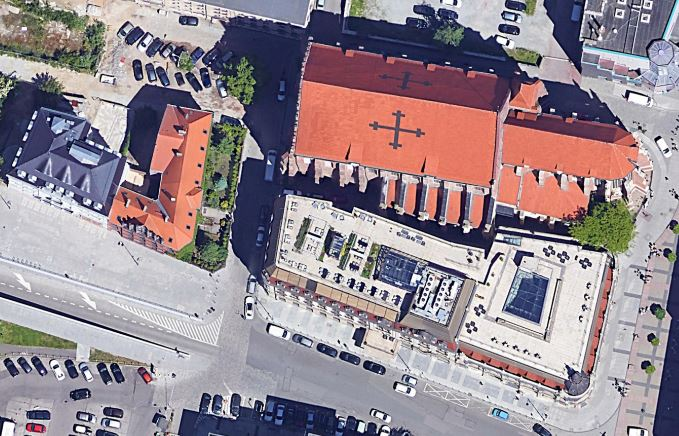block of flats: (259, 188, 617, 400), (101, 82, 214, 264), (6, 100, 126, 230)
church: (270, 28, 649, 247)
